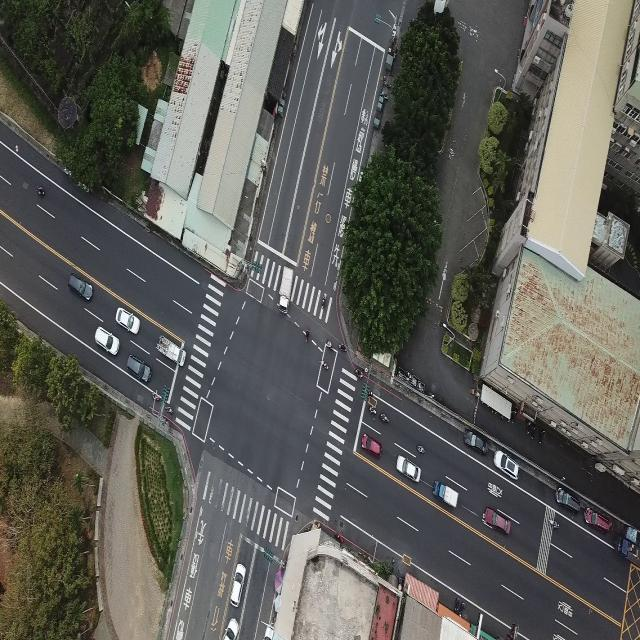vehicle: (156, 334, 187, 367), (94, 325, 120, 356), (278, 266, 294, 315), (432, 479, 459, 508), (494, 450, 520, 480), (485, 506, 512, 534), (230, 561, 246, 607), (554, 486, 580, 514), (114, 307, 140, 335), (68, 273, 94, 301), (126, 355, 152, 383), (396, 454, 421, 483), (584, 507, 610, 533), (464, 430, 489, 455), (361, 433, 383, 459), (222, 616, 239, 640), (538, 430, 545, 445), (454, 598, 460, 614), (549, 520, 559, 529), (304, 328, 310, 342), (380, 413, 389, 422), (36, 186, 44, 196), (355, 369, 363, 378), (325, 341, 333, 350), (152, 393, 160, 402), (368, 406, 376, 415), (459, 603, 464, 616), (531, 424, 535, 440), (338, 345, 347, 352), (321, 296, 326, 308), (166, 407, 174, 414), (417, 446, 425, 453), (322, 361, 328, 370), (526, 422, 530, 435), (418, 381, 422, 392), (368, 391, 374, 397), (422, 384, 425, 393)
